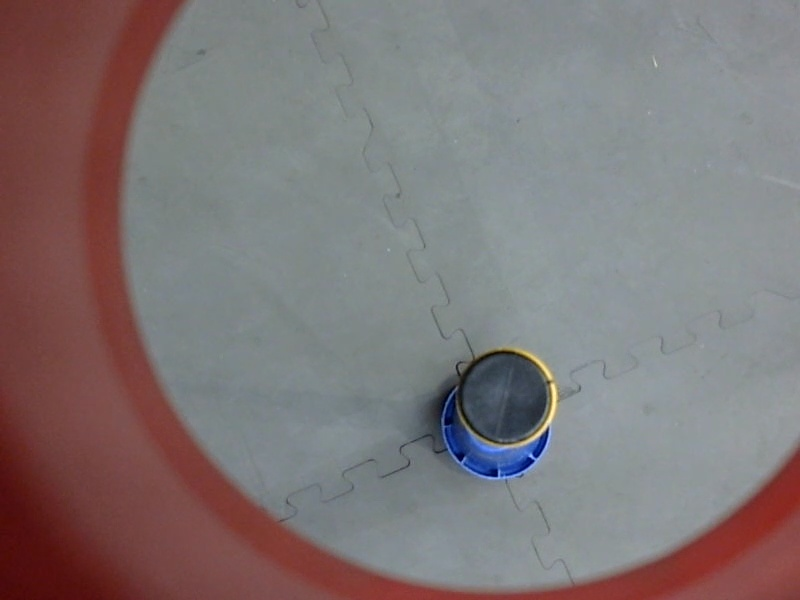tip: (452, 344, 561, 455)
